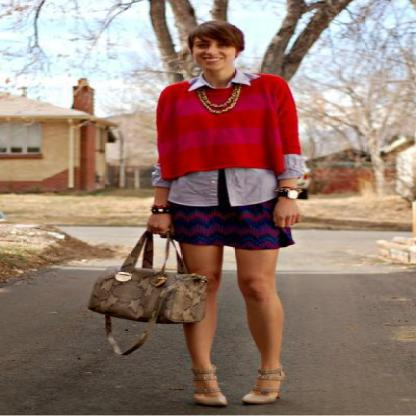bag: (88, 224, 206, 324)
jacket: (156, 68, 300, 183)
shirt: (168, 70, 310, 206), (217, 174, 228, 198)
shoe: (179, 358, 286, 403)
skirt: (152, 192, 293, 250)
